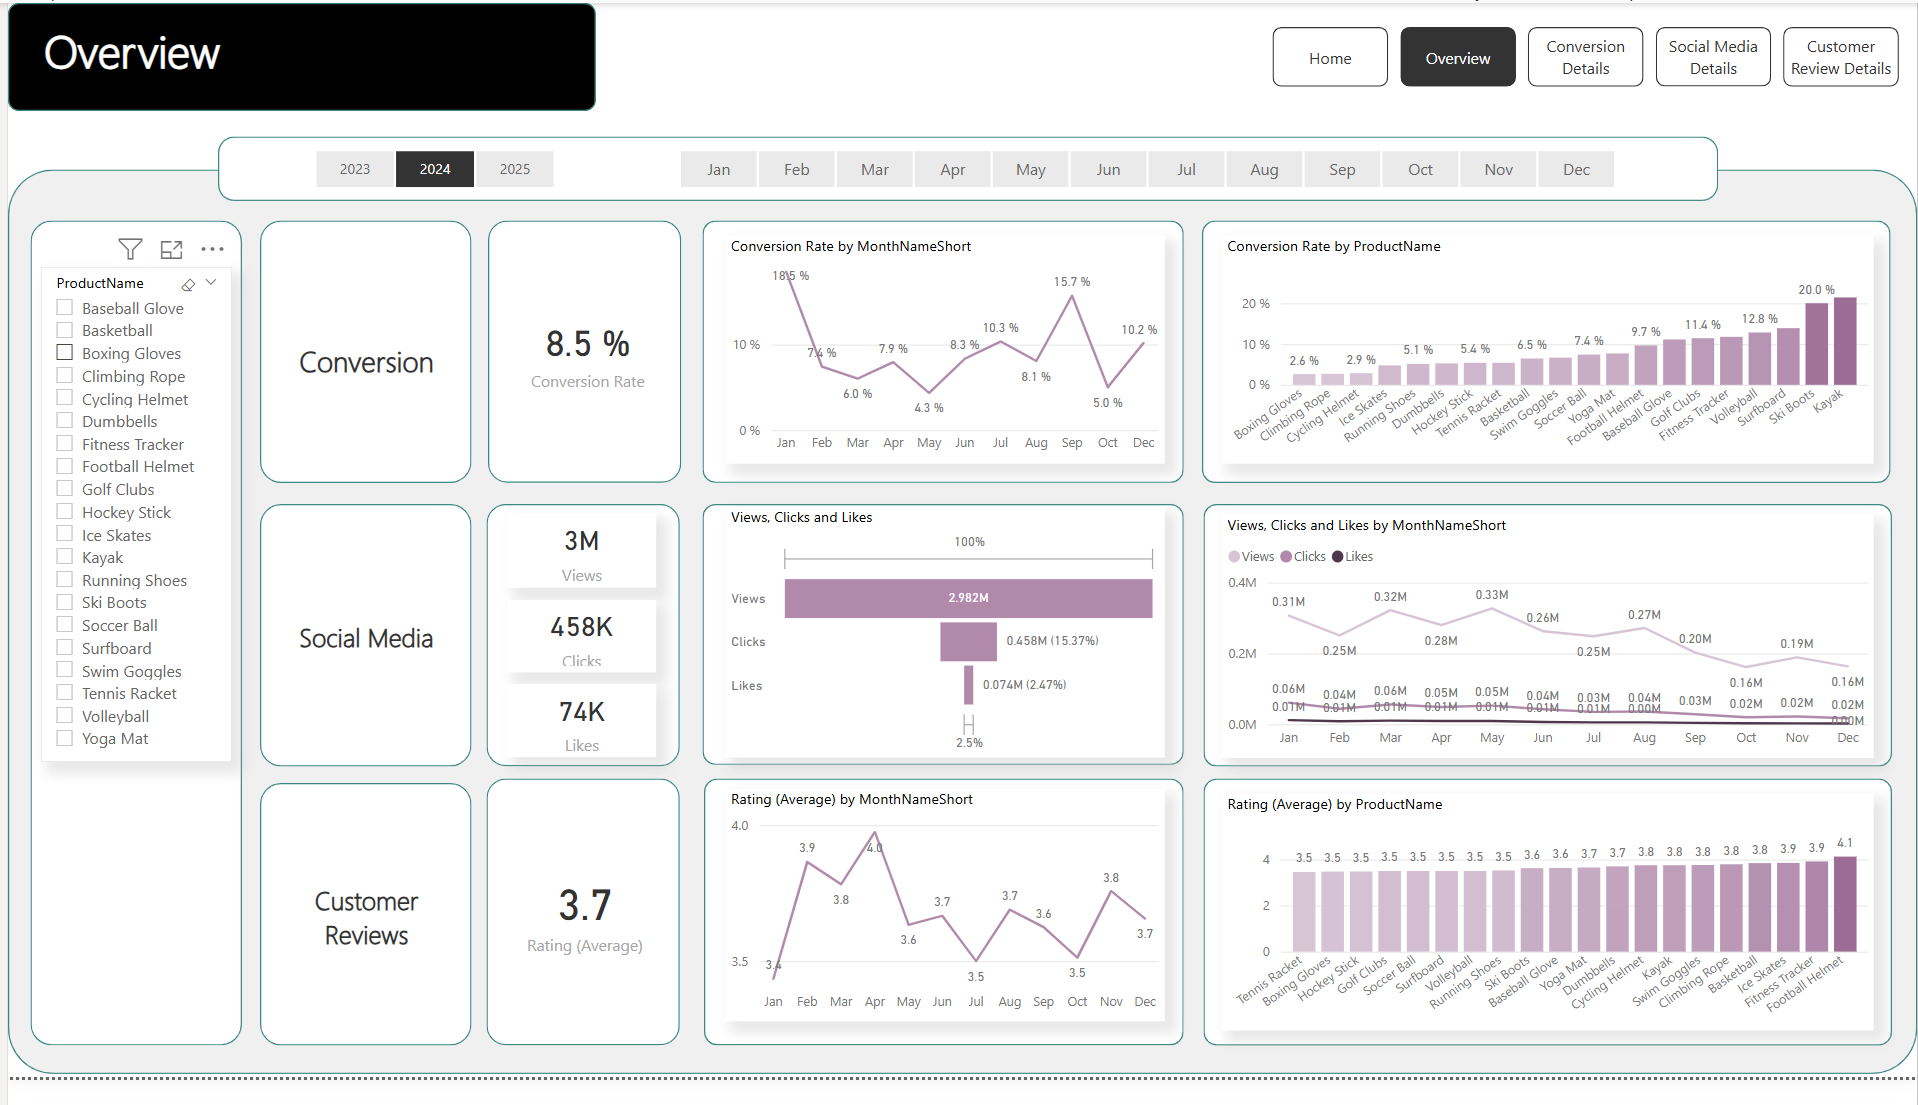

Layout of this report page (visuals, bound fields, positions):
{"tool":"powerbi","page":{"name":"Overview","canvas":[1600,900],"ordinal":1},"visuals":[{"type":"shape","box":[0,139.6,1600.4,758.1],"z":0},{"type":"shape","box":[582.1,182.3,403.6,220],"z":1000},{"type":"shape","box":[1000.7,182.3,577.1,220],"z":2000},{"type":"shape","box":[582.1,419.9,403.6,218.8],"z":3000},{"type":"shape","box":[1002,419.9,577.1,220],"z":4000},{"type":"shape","box":[583.3,650,402.3,223.8],"z":5000},{"type":"shape","box":[1002,650,577.1,223.8],"z":6000},{"type":"shape","box":[401.1,419.9,162.2,220],"z":7000},{"type":"shape","box":[401.1,650,162.2,223.8],"z":8000},{"type":"shape","box":[402.3,182.3,162.2,220],"z":9000},{"type":"shape","box":[211.2,419.9,177.3,220],"z":10000},{"type":"shape","box":[211.2,653.8,177.3,220],"z":11000},{"type":"shape","box":[211.2,182.3,177.3,220],"z":12000},{"type":"shape","box":[18.9,182.3,177.3,691.5],"z":13000},{"type":"shape","box":[176,111.9,1257.2,54.1],"z":14000},{"type":"shape","box":[0,0,492.8,90.5],"z":15000},{"type":"textbox","box":[25.1,8.8,275.3,71.7],"z":16000},{"type":"slicer","fields":{"Values":["dim_products.ProductName"]},"box":[27.7,221.3,159.7,414.9],"z":17000},{"type":"card","fields":{"Values":["_Calculations.Conversion Rate"]},"box":[423.7,198.6,124.5,187.3],"z":18000},{"type":"card","fields":{"Values":["_Calculations.Rating (Average)"]},"box":[421.2,672.6,124.5,178.5],"z":19000},{"type":"lineChart","fields":{"Y":["_Calculations.Conversion Rate"],"Category":["Calendar.MonthNameShort"]},"box":[600.9,194.9,368.4,191.1],"z":20000},{"type":"columnChart","fields":{"Category":["dim_products.ProductName"],"Y":["_Calculations.Conversion Rate"]},"box":[1017.1,194.9,546.9,191.1],"z":21000},{"type":"slicer","fields":{"Values":["Calendar.Year"]},"box":[232.6,116.9,248.9,44],"z":22000},{"type":"slicer","fields":{"Values":["Calendar.MonthNameShort"]},"box":[538.1,116.9,832.3,44],"z":23000},{"type":"lineChart","fields":{"Y":["_Calculations.Views","_Calculations.Clicks","_Calculations.Likes"],"Category":["Calendar.MonthNameShort"]},"box":[1017.1,428.7,546.9,203.7],"z":24000},{"type":"lineChart","fields":{"Category":["Calendar.MonthNameShort"],"Y":["_Calculations.Rating (Average)"]},"box":[600.9,658.8,368.4,194.9],"z":25000},{"type":"columnChart","fields":{"Category":["dim_products.ProductName"],"Y":["_Calculations.Rating (Average)"]},"box":[1017.1,662.6,546.9,198.6],"z":26000},{"type":"funnel","fields":{"Y":["_Calculations.Views","_Calculations.Clicks","_Calculations.Likes"]},"box":[600.9,422.4,368.4,210],"z":27000},{"type":"card","fields":{"Values":["_Calculations.Views"]},"box":[418.7,427.5,124.5,62.9],"z":28000},{"type":"textbox","box":[225,203.7,150.9,178.5],"z":29000},{"type":"textbox","box":[225,436.3,150.9,178.5],"z":30000},{"type":"textbox","box":[225,675.1,150.9,178.5],"z":31000},{"type":"card","fields":{"Values":["_Calculations.Clicks"]},"box":[418.7,500.4,124.5,60.3],"z":32000},{"type":"card","fields":{"Values":["_Calculations.Likes"]},"box":[418.7,570.8,124.5,61.6],"z":33000},{"type":"pageNavigator","box":[1059.8,20.1,526.8,50.3],"z":34000}]}

Visuals, with their boxes in screenshot pixels (x1, y1, x2, y2), scaled from the page's 1600x900 canvas onto the 1918x1105 screenshot:
shape: rect(0, 171, 1917, 1102)
shape: rect(698, 224, 1182, 494)
shape: rect(1200, 224, 1891, 494)
shape: rect(698, 516, 1182, 784)
shape: rect(1201, 516, 1893, 786)
shape: rect(699, 798, 1181, 1073)
shape: rect(1201, 798, 1893, 1073)
shape: rect(481, 516, 675, 786)
shape: rect(481, 798, 675, 1073)
shape: rect(482, 224, 677, 494)
shape: rect(253, 516, 466, 786)
shape: rect(253, 803, 466, 1073)
shape: rect(253, 224, 466, 494)
shape: rect(23, 224, 235, 1073)
shape: rect(211, 137, 1718, 204)
shape: rect(0, 0, 591, 111)
textbox: rect(30, 11, 360, 99)
slicer - dim_products.ProductName: rect(33, 272, 225, 781)
card - _Calculations.Conversion Rate: rect(508, 244, 657, 474)
card - _Calculations.Rating (Average): rect(505, 826, 654, 1045)
lineChart - _Calculations.Conversion Rate x Calendar.MonthNameShort: rect(720, 239, 1162, 474)
columnChart - dim_products.ProductName x _Calculations.Conversion Rate: rect(1219, 239, 1875, 474)
slicer - Calendar.Year: rect(279, 144, 577, 198)
slicer - Calendar.MonthNameShort: rect(645, 144, 1643, 198)
lineChart - _Calculations.Views x _Calculations.Clicks: rect(1219, 526, 1875, 776)
lineChart - Calendar.MonthNameShort x _Calculations.Rating (Average): rect(720, 809, 1162, 1048)
columnChart - dim_products.ProductName x _Calculations.Rating (Average): rect(1219, 814, 1875, 1057)
funnel - _Calculations.Views x _Calculations.Clicks: rect(720, 519, 1162, 776)
card - _Calculations.Views: rect(502, 525, 651, 602)
textbox: rect(270, 250, 451, 469)
textbox: rect(270, 536, 451, 755)
textbox: rect(270, 829, 451, 1048)
card - _Calculations.Clicks: rect(502, 614, 651, 688)
card - _Calculations.Likes: rect(502, 701, 651, 776)
pageNavigator: rect(1270, 25, 1902, 86)
